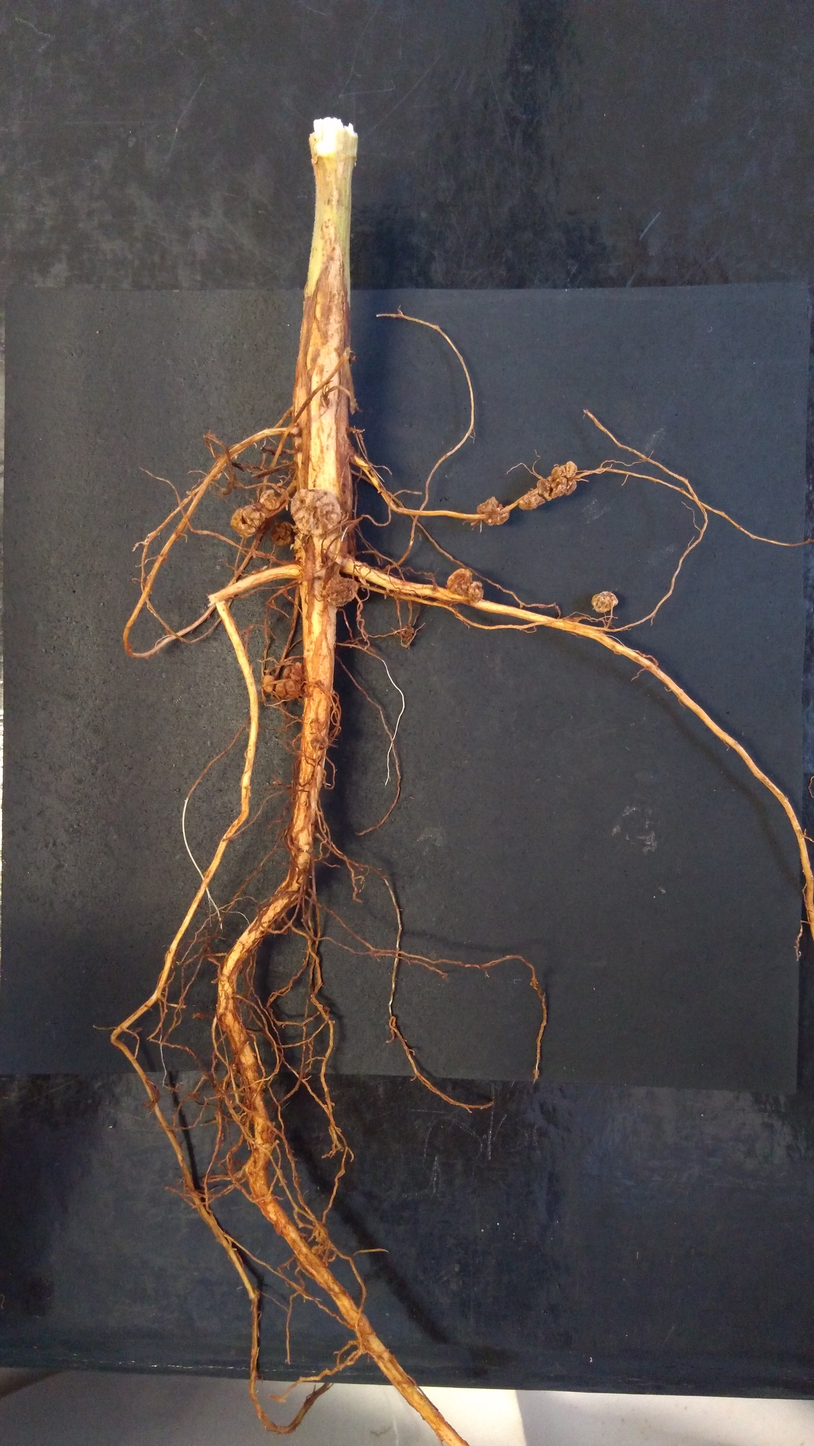nodule: (290, 488, 344, 536), (229, 503, 267, 539), (322, 576, 360, 608), (477, 496, 510, 526), (445, 567, 474, 598), (591, 590, 619, 613), (517, 490, 546, 511), (270, 520, 293, 546), (275, 678, 301, 700), (546, 475, 567, 499), (293, 532, 307, 567), (551, 461, 578, 479), (466, 579, 484, 606), (259, 488, 281, 510), (282, 663, 306, 683), (537, 477, 556, 501), (260, 1119, 276, 1144), (309, 734, 329, 751), (261, 673, 275, 694), (562, 479, 577, 496), (400, 624, 415, 641), (296, 851, 311, 868), (310, 1245, 324, 1256), (349, 397, 358, 414), (293, 435, 302, 449), (220, 486, 232, 495), (271, 448, 282, 456), (190, 1092, 199, 1101), (350, 354, 357, 362), (272, 781, 282, 786)
